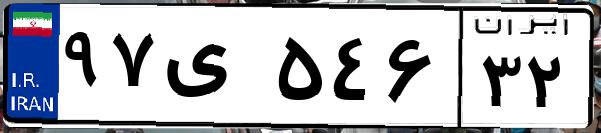2: (525, 38, 570, 115)
3: (475, 38, 525, 113)
4: (330, 28, 385, 110)
5: (270, 28, 330, 110)
6: (385, 28, 445, 110)
7: (110, 28, 158, 98)
9: (57, 26, 110, 100)
ی: (158, 20, 270, 120)
